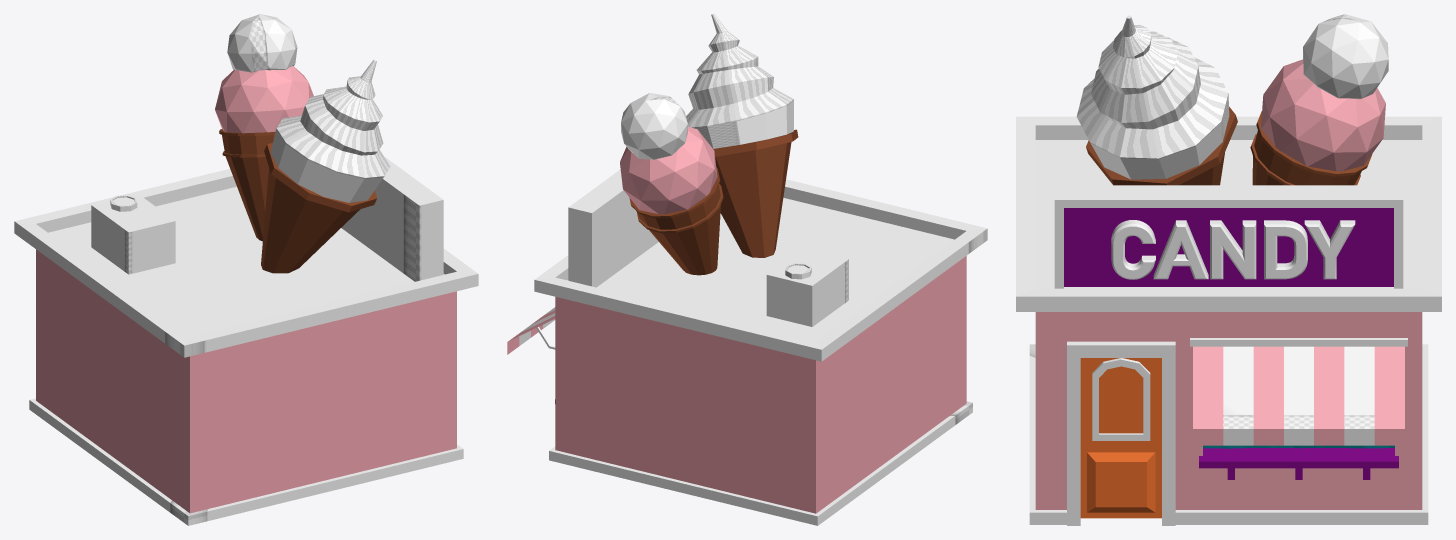
Rendered from candystore.obj.
The picture shows the model from 3 angles, left to right: view 1: azimuth 30°, elevation 25°; view 2: azimuth 150°, elevation 25°; view 3: azimuth 270°, elevation 25°; orthographic projection. The views are drawn at different scales.
Parts seen in each view (by area): view 1: Main_part_pink_Cube, Main_part_white_Cube.015, Ice_cream_1_Cylinder.003, Signboard_white_Cube.010, Ice_cream_cup_1_Cylinder.002, Conditioner_Cube.009, Ice_cream_biggest_2_Icosphere, Ice_cream_2_Icosphere.001, Ice_cream_cup_2_Cylinder.001; view 2: Main_part_pink_Cube, Main_part_white_Cube.015, Ice_cream_1_Cylinder.003, Ice_cream_cup_1_Cylinder.002, Signboard_white_Cube.010, Ice_cream_biggest_2_Icosphere, Conditioner_Cube.009, Ice_cream_cup_2_Cylinder.001, Ice_cream_2_Icosphere.001; view 3: Main_part_white_Cube.015, Main_part_pink_Cube, Signboard_violet_Cube.012, Ice_cream_1_Cylinder.003, Canopy_pink_Plane, Door_Cube.013, Signboard_white_Cube.010, Text, Canopy_yellow_Plane.001, Ice_cream_biggest_2_Icosphere, Ice_cream_2_Icosphere.001, Windowsill_Cube.001 (+4 smaller).
Boxes of the visible parts, <box> form: Main_part_pink_Cube: <box>36,249,456,513</box>; Main_part_white_Cube.015: <box>14,169,478,525</box>; Ice_cream_1_Cylinder.003: <box>270,59,390,202</box>; Signboard_white_Cube.010: <box>341,156,443,281</box>; Ice_cream_cup_1_Cylinder.002: <box>261,142,377,273</box>; Conditioner_Cube.009: <box>91,194,175,274</box>; Ice_cream_biggest_2_Icosphere: <box>215,66,313,133</box>; Ice_cream_2_Icosphere.001: <box>227,14,297,72</box>; Ice_cream_cup_2_Cylinder.001: <box>219,129,275,241</box>; Main_part_pink_Cube: <box>555,256,966,513</box>; Main_part_white_Cube.015: <box>534,179,987,525</box>; Ice_cream_1_Cylinder.003: <box>686,14,793,148</box>; Ice_cream_cup_1_Cylinder.002: <box>713,129,798,257</box>; Signboard_white_Cube.010: <box>568,169,658,287</box>; Ice_cream_biggest_2_Icosphere: <box>620,126,717,214</box>; Conditioner_Cube.009: <box>766,248,848,326</box>; Ice_cream_cup_2_Cylinder.001: <box>629,167,723,275</box>; Ice_cream_2_Icosphere.001: <box>621,93,687,159</box>; Main_part_white_Cube.015: <box>1016,116,1441,525</box>; Main_part_pink_Cube: <box>1035,312,1422,509</box>; Signboard_violet_Cube.012: <box>1064,208,1393,286</box>; Ice_cream_1_Cylinder.003: <box>1076,15,1229,179</box>; Canopy_pink_Plane: <box>1193,346,1404,445</box>; Door_Cube.013: <box>1080,358,1161,518</box>; Signboard_white_Cube.010: <box>1054,185,1403,288</box>; Text: <box>1111,220,1355,279</box>; Canopy_yellow_Plane.001: <box>1223,346,1374,445</box>; Ice_cream_biggest_2_Icosphere: <box>1261,59,1385,171</box>; Ice_cream_2_Icosphere.001: <box>1303,14,1388,99</box>; Windowsill_Cube.001: <box>1199,448,1398,479</box>.
Bounding box in the file's own units: 8.25 × 8.95 × 7.21.
